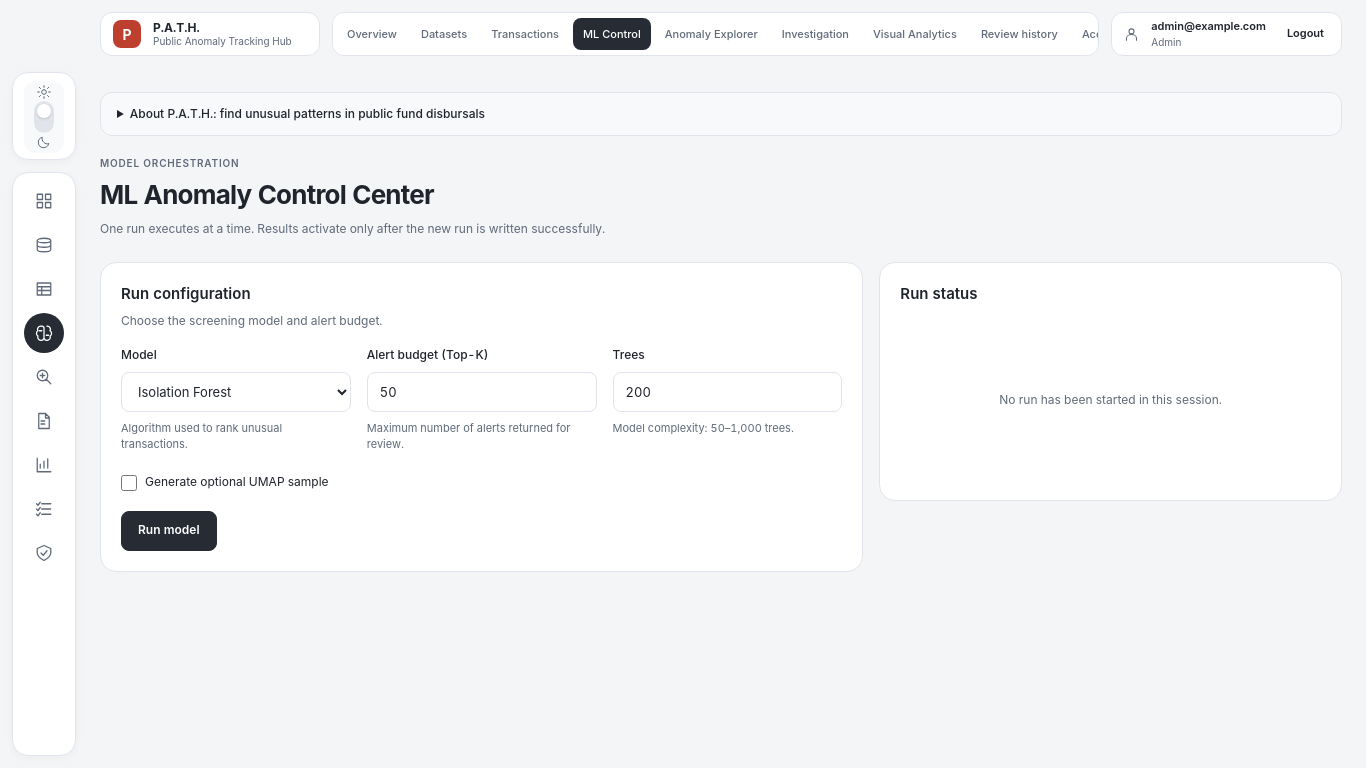
Test: real application flows with mocked HTTP boundaries › runs models and polls completion and failure
Expected: the heading "ML Anomaly Control Center" is shown, [100, 179, 434, 210]
Select "EIF-lite" in the dropdown labelled "Model" at (236, 392), box [121, 372, 351, 412]
Replace the text in the number field labelled "Alert budget (Top-K)" with "5" at (482, 392), box [367, 372, 597, 412]
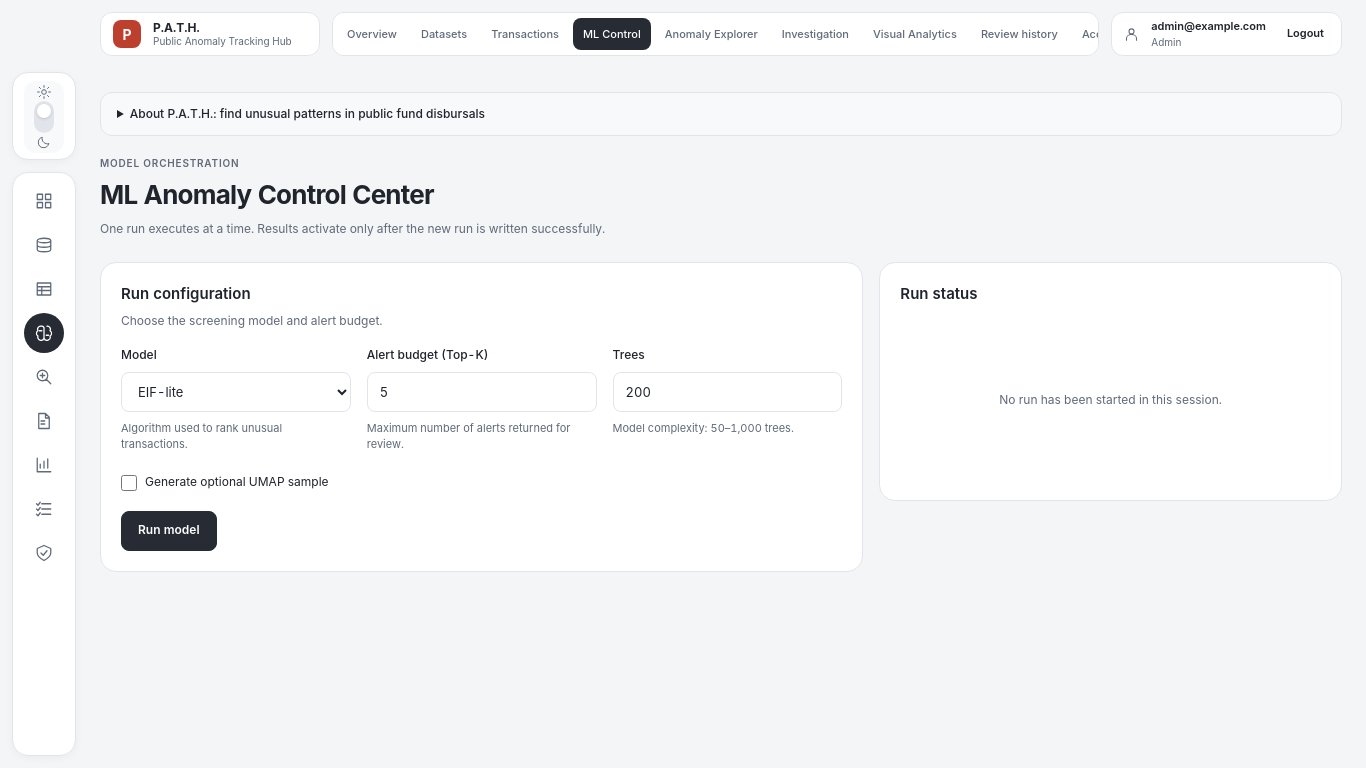
Replace the text in the number field labelled "Trees" with "50" at (728, 392), box [613, 372, 842, 412]
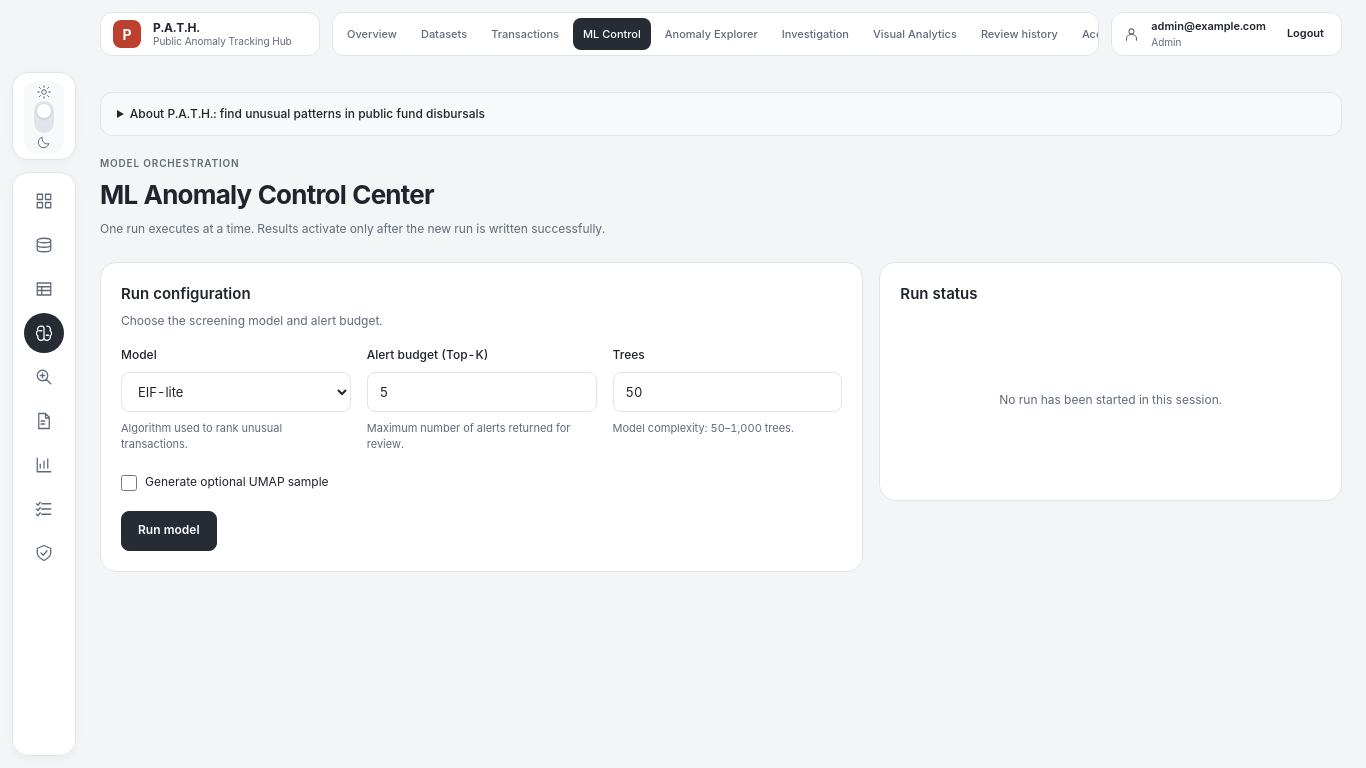
Click the checkbox labelled "Generate optional UMAP sample".
click(129, 482)  # box [121, 474, 137, 490]
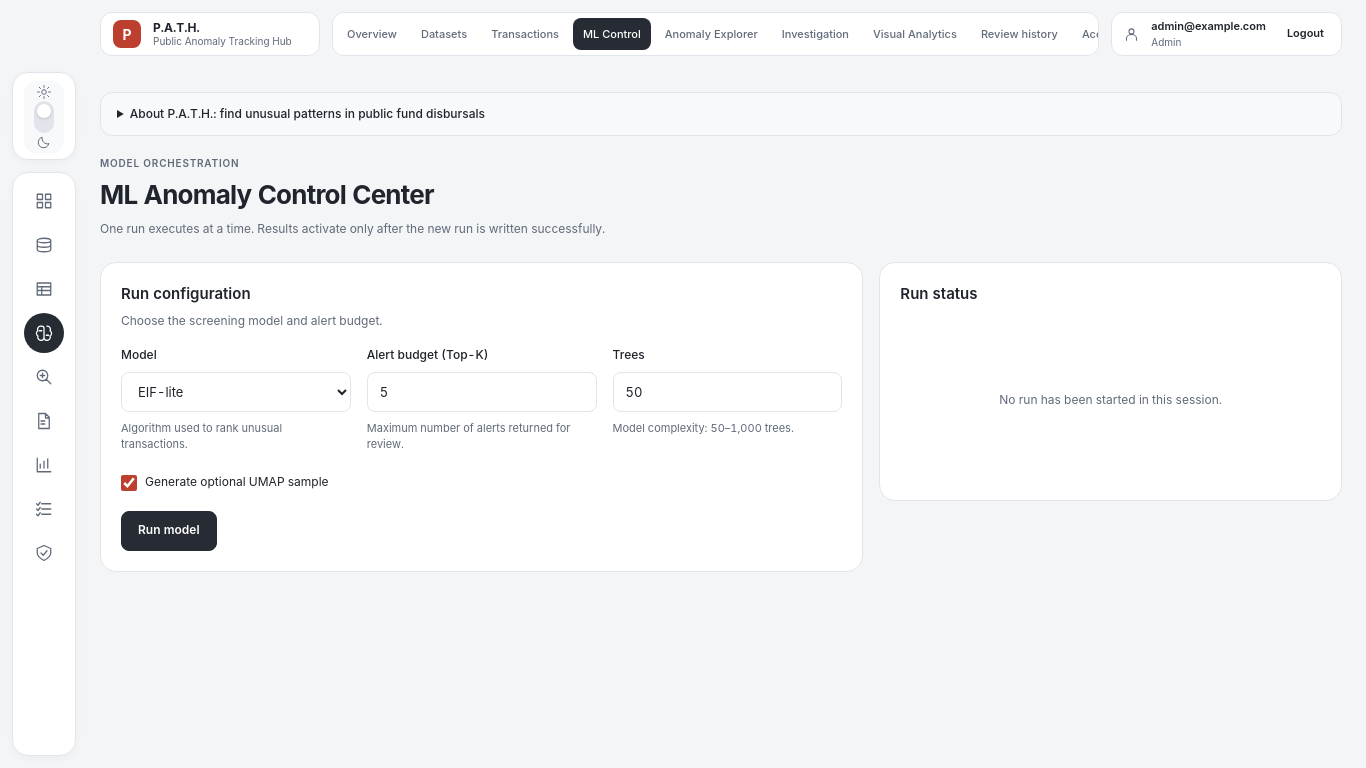
Click the button "Run model".
click(169, 530)  # box [121, 510, 217, 550]
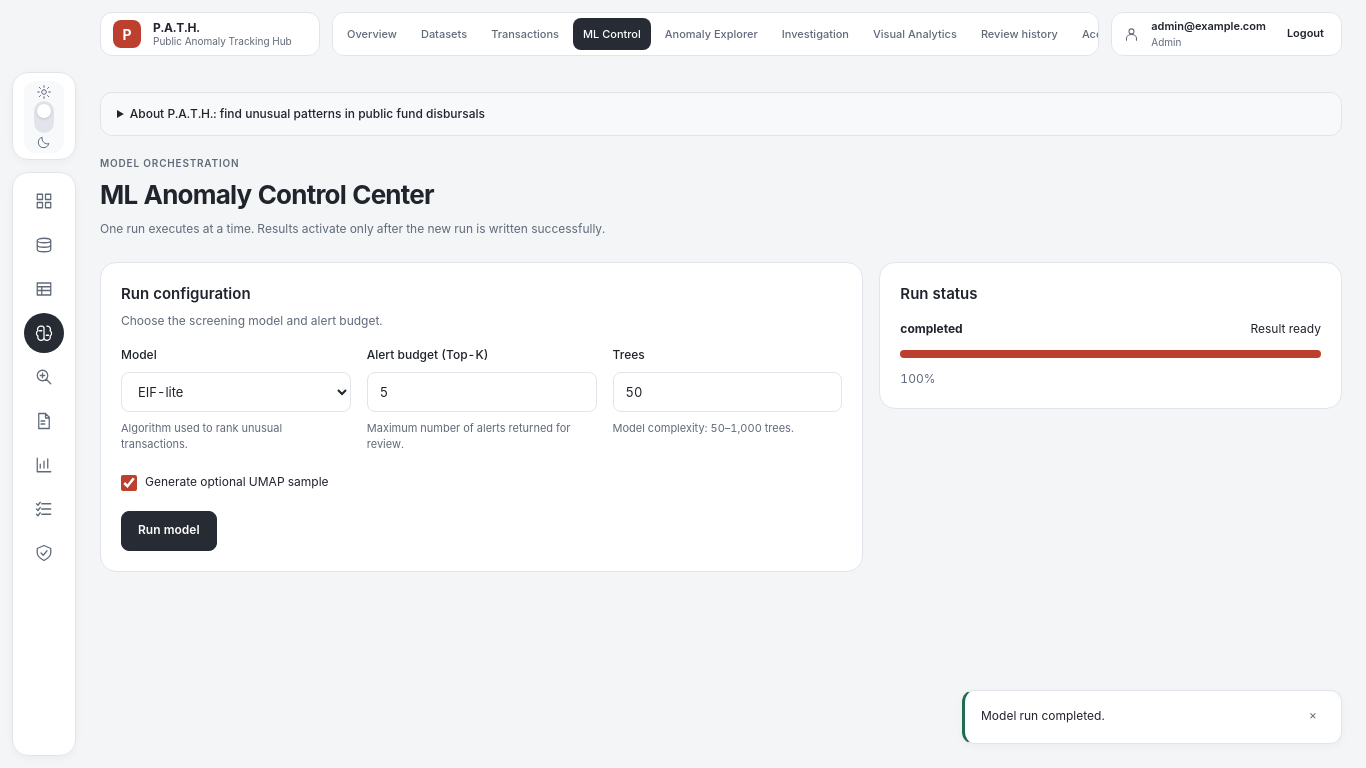
Expected: the text "Model run completed." is shown, [981, 707, 1105, 725]
Click the button "Run model".
click(169, 530)  # box [121, 510, 217, 550]
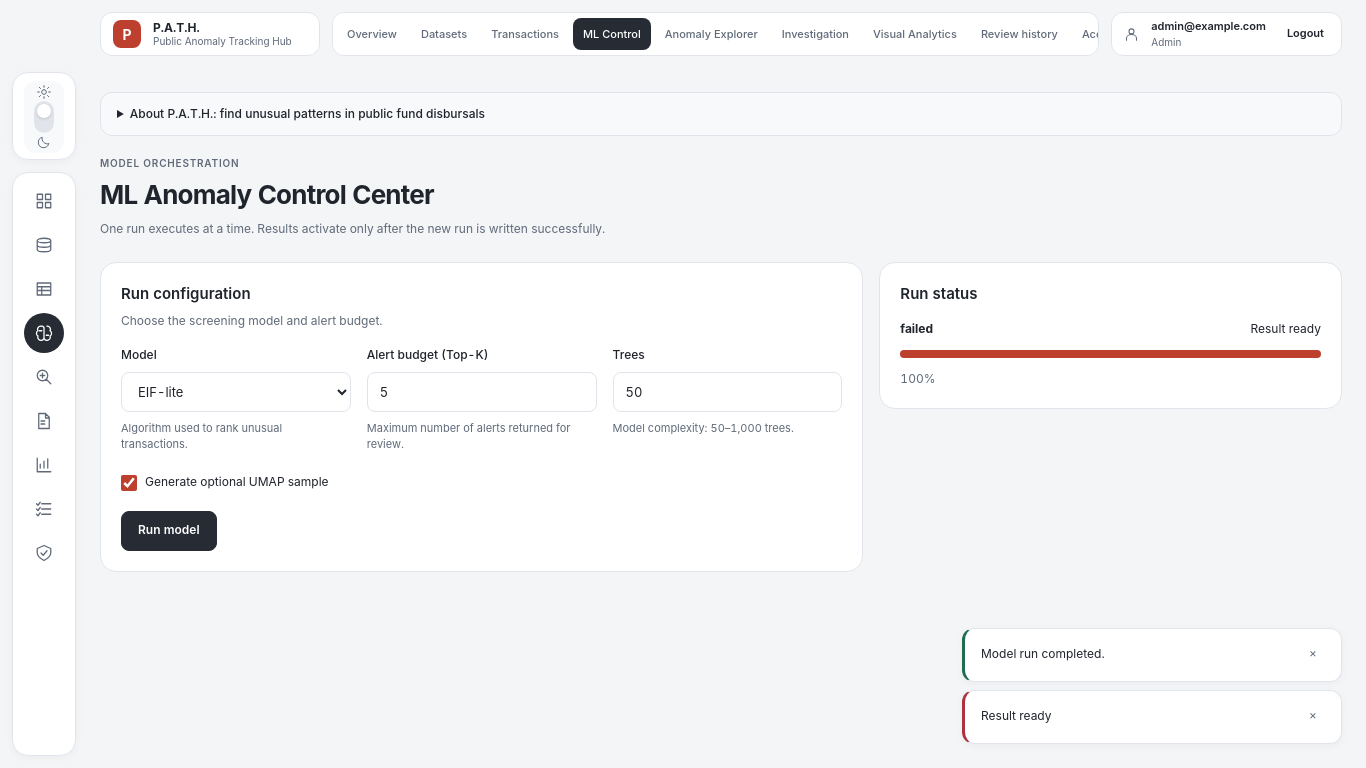
Expected: the text "failed" is shown, [900, 320, 933, 338]
Click the button "Run model".
click(169, 530)  # box [121, 510, 217, 550]
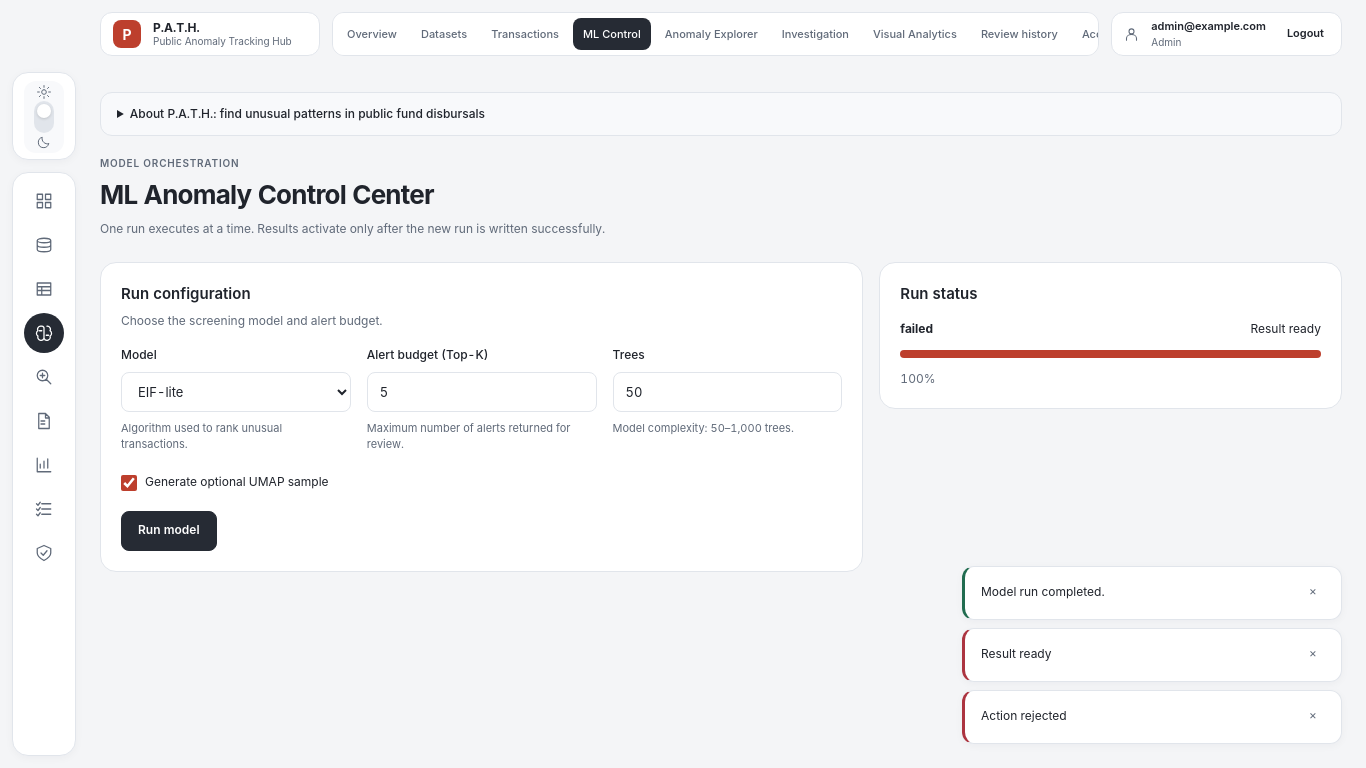
Expected: the text "Action rejected" is shown, [981, 707, 1067, 725]
